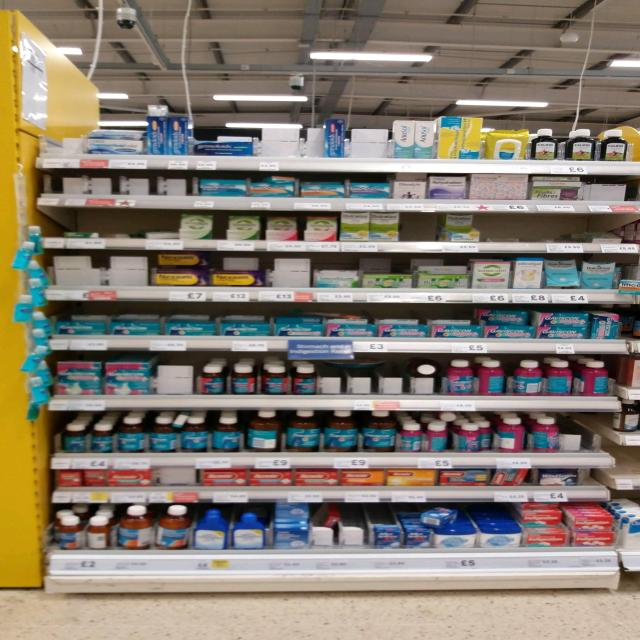empty: (482, 215, 628, 243), (401, 212, 438, 241), (617, 448, 639, 477)
